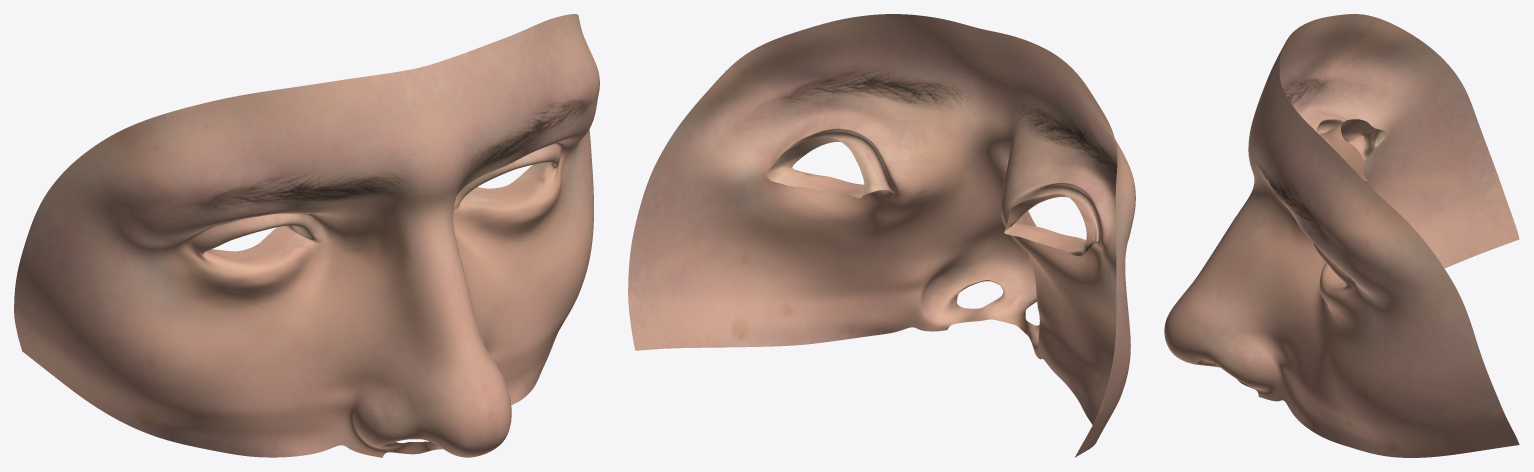
File: bakedAnim 2.fbx
The picture shows the model from 3 angles, left to right: view 1: azimuth 30°, elevation 25°; view 2: azimuth 150°, elevation 25°; view 3: azimuth 270°, elevation 25°; orthographic projection. The views are drawn at different scales.
Parts seen in each view (by area): view 1: face1; view 2: face1; view 3: face1.
Part boxes in pixels (box(x1,y1,x2,y2)): face1: box(14, 14, 599, 457); face1: box(628, 14, 1135, 457); face1: box(1164, 14, 1519, 457).
Size of the model in its own units: 54.08 by 35.09 by 36.05.
